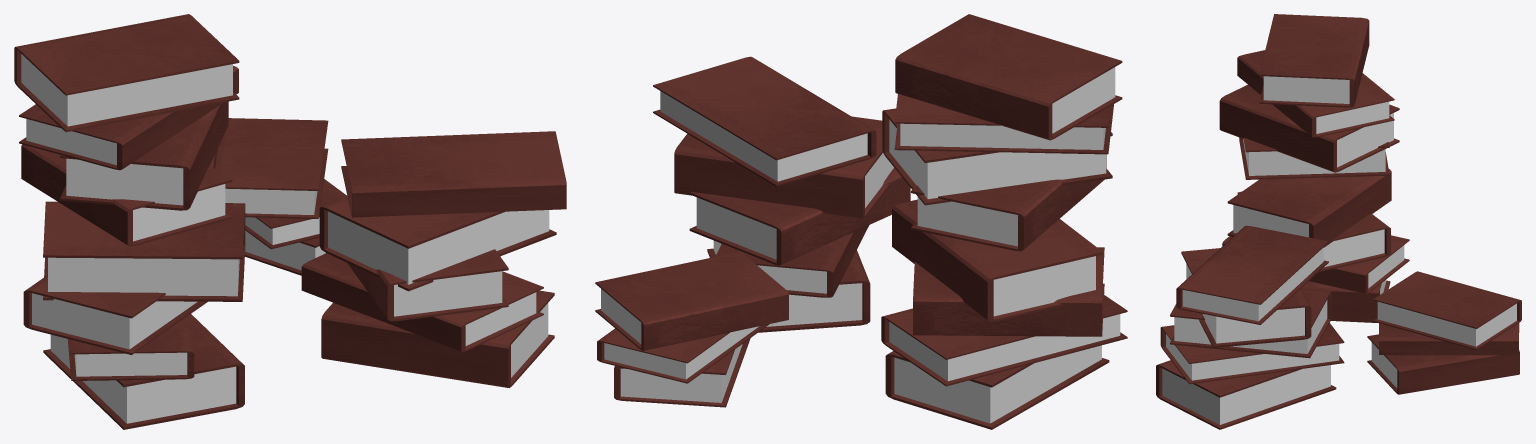
Rendered from kitaplar.fbx.
3 renders of one model, left to right at view 1: azimuth 30°, elevation 25°; view 2: azimuth 150°, elevation 25°; view 3: azimuth 270°, elevation 25°, orthographic. The views are drawn at different scales.
Visible parts, largest first — view 1: Cube.145, Cube.151, Cube.144, Cube.152, Cube.150, Cube.024, Cube.141, Cube.147, Cube.139, Cube.149, Cube.142, Cube.148 (+4 smaller); view 2: Cube.145, Cube.151, Cube.024, Cube.144, Cube.152, Cube.141, Cube.148, Cube.147, Cube.140, Cube.142, Cube.146, Cube.139 (+4 smaller); view 3: Cube.151, Cube.145, Cube.144, Cube.024, Cube.150, Cube.147, Cube.149, Cube.014, Cube.146, Cube.152, Cube.148, Cube.142 (+4 smaller).
Part boxes in pixels (x1,y1,x2,y2): Cube.145: [14, 14, 239, 132]; Cube.151: [341, 131, 566, 217]; Cube.144: [43, 201, 245, 301]; Cube.152: [319, 197, 556, 291]; Cube.150: [321, 290, 554, 388]; Cube.024: [213, 118, 328, 218]; Cube.141: [43, 314, 244, 429]; Cube.147: [60, 101, 228, 210]; Cube.139: [23, 275, 207, 354]; Cube.149: [301, 253, 543, 351]; Cube.142: [21, 144, 232, 246]; Cube.148: [347, 249, 508, 321]; Cube.145: [895, 14, 1122, 140]; Cube.151: [653, 56, 876, 186]; Cube.024: [595, 251, 788, 350]; Cube.144: [892, 199, 1102, 321]; Cube.152: [674, 116, 893, 218]; Cube.141: [885, 345, 1109, 429]; Cube.148: [689, 168, 910, 265]; Cube.147: [882, 108, 1112, 205]; Cube.140: [881, 295, 1127, 386]; Cube.142: [911, 154, 1106, 251]; Cube.146: [894, 94, 1113, 154]; Cube.139: [913, 247, 1104, 336]; Cube.151: [1176, 225, 1328, 324]; Cube.145: [1259, 14, 1369, 107]; Cube.144: [1227, 169, 1391, 247]; Cube.024: [1373, 271, 1521, 350]; Cube.150: [1156, 360, 1336, 429]; Cube.147: [1219, 84, 1399, 172]; Cube.149: [1160, 323, 1344, 384]; Cube.014: [1367, 334, 1519, 394]; Cube.146: [1237, 50, 1394, 137]; Cube.152: [1181, 248, 1311, 347]; Cube.148: [1170, 288, 1331, 358]; Cube.142: [1239, 137, 1389, 179].
Bounding box in the file's own units: 195 × 123 × 164.
2 materials, 1 textured.
